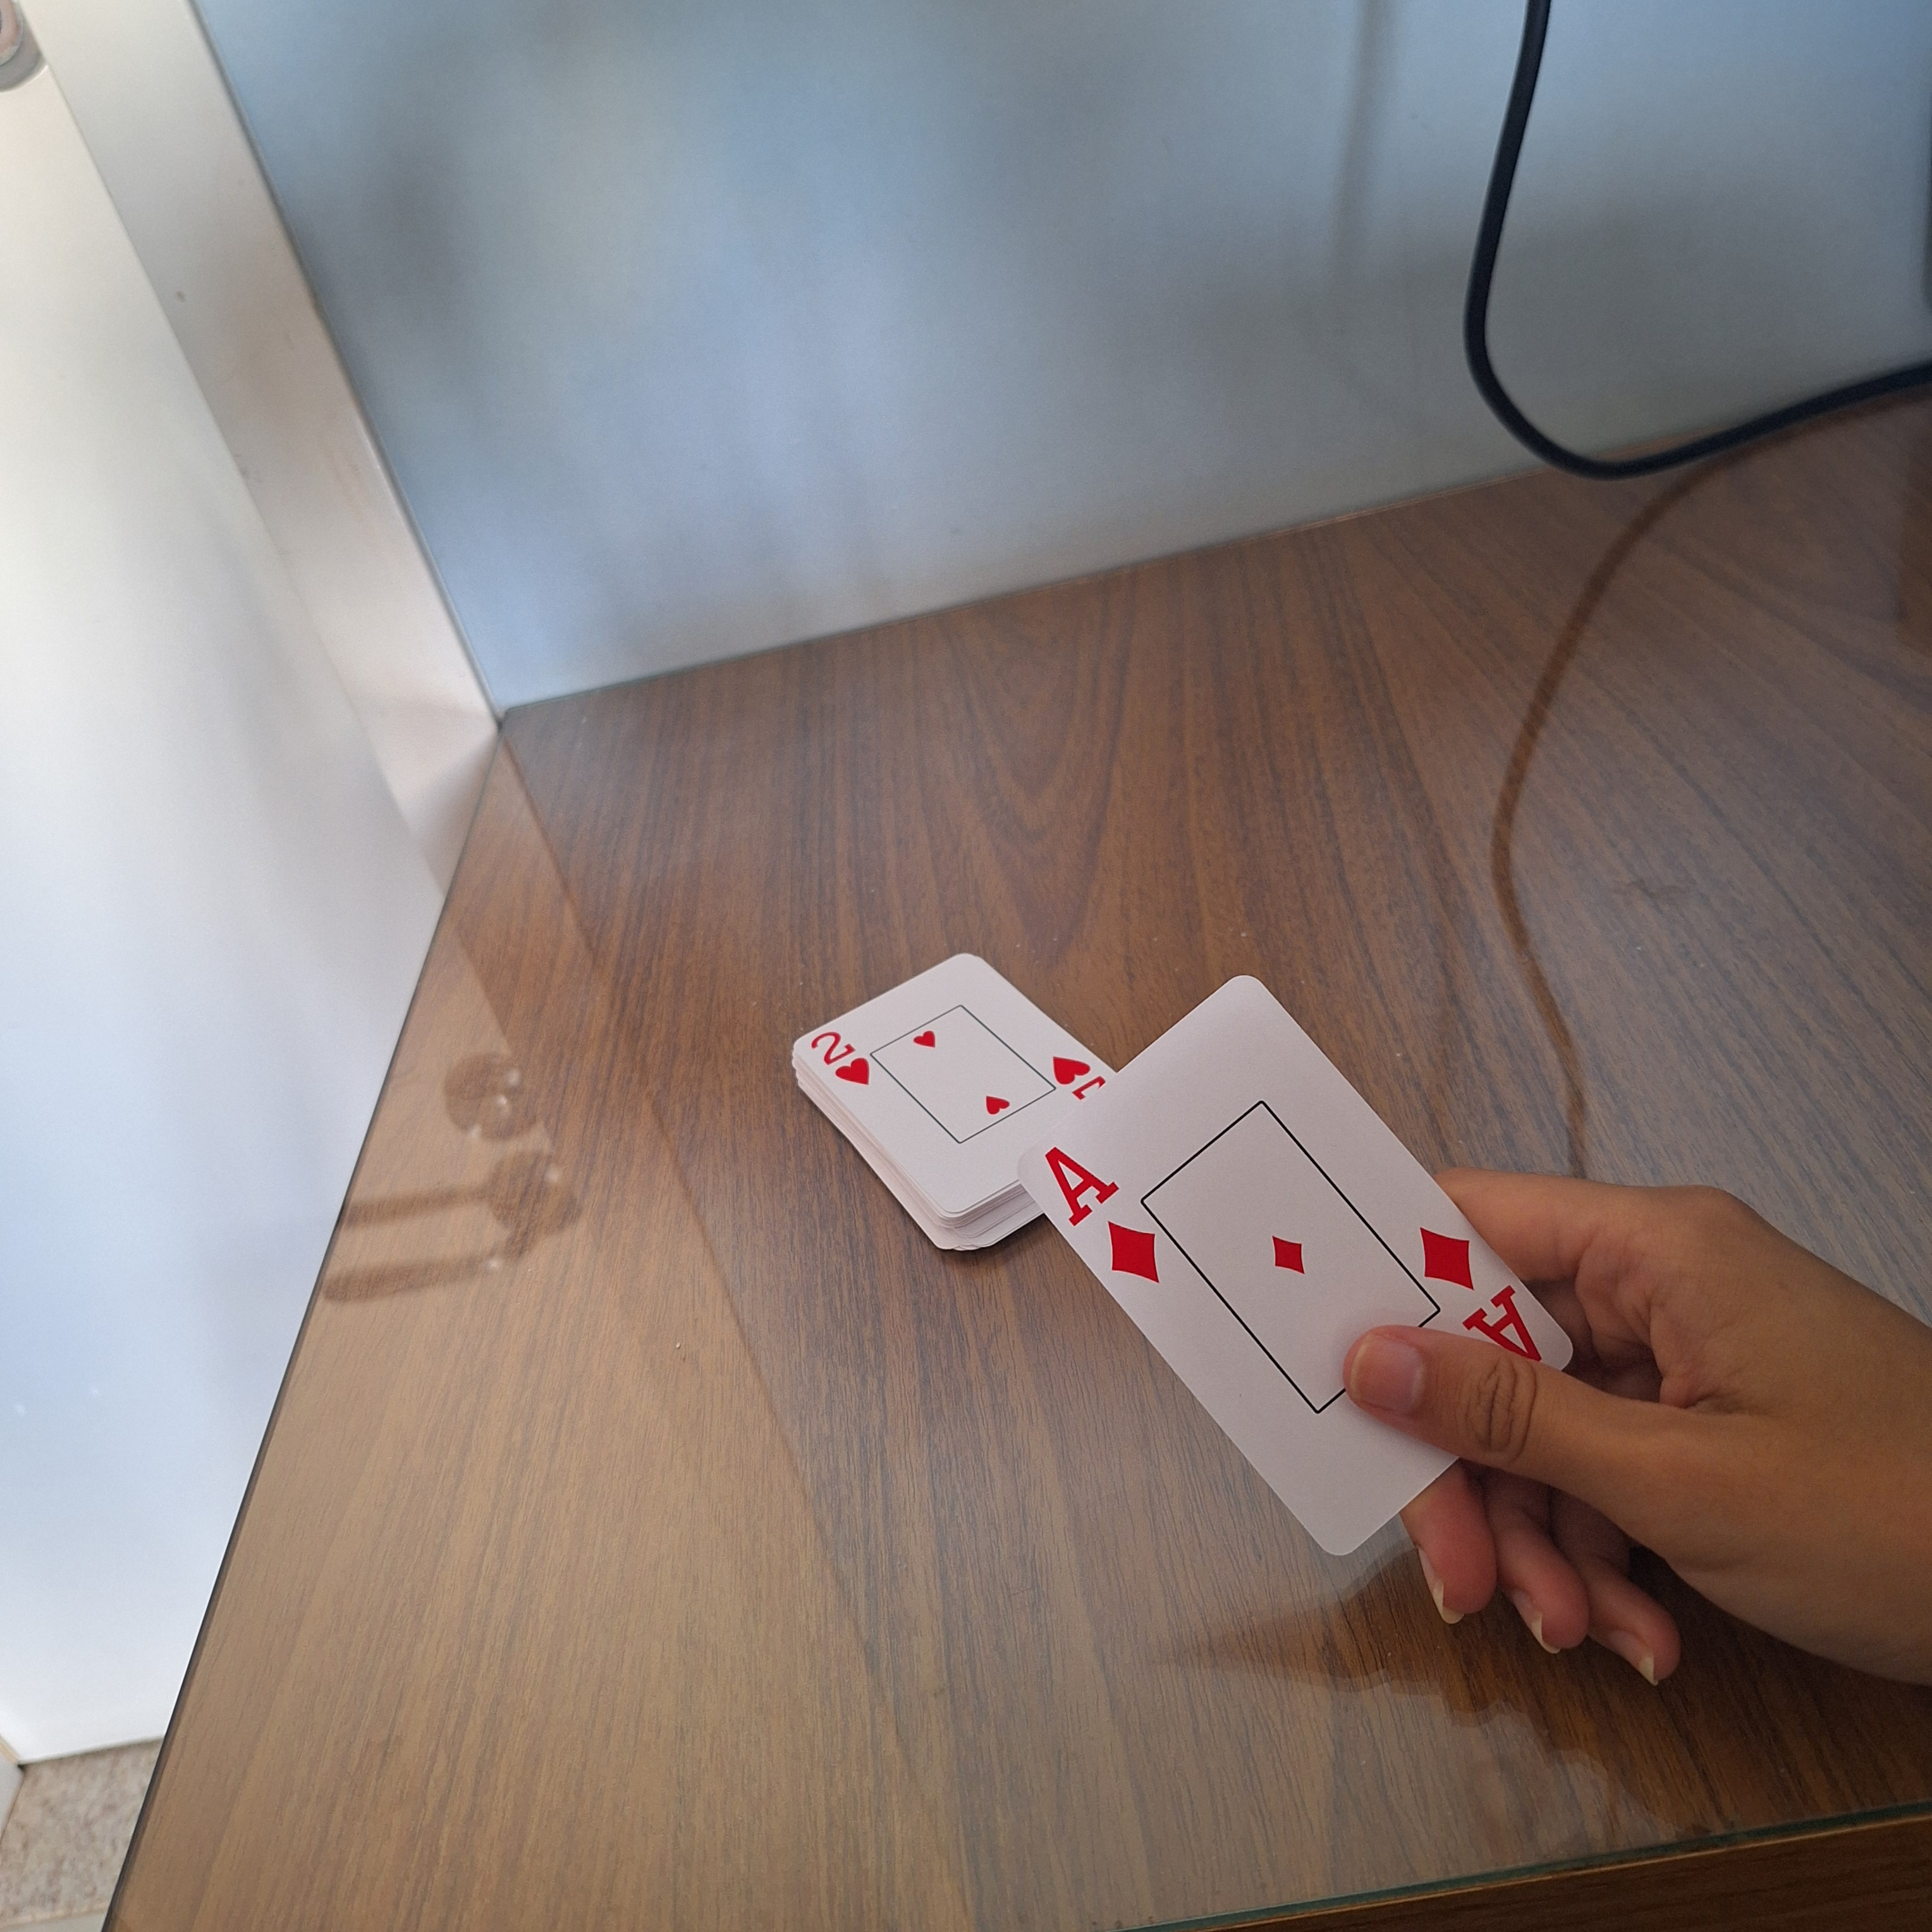2C: (809, 1026, 885, 1092)
AO: (1405, 1217, 1553, 1366), (1035, 1136, 1175, 1290)
